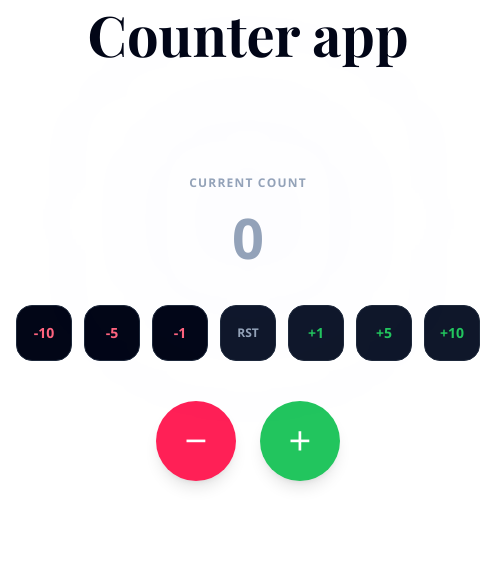
Counter component › decrements when the -1 button is clicked
Click the button named "Decrement by 1".
click(196, 440)  # box [156,400,236,480]
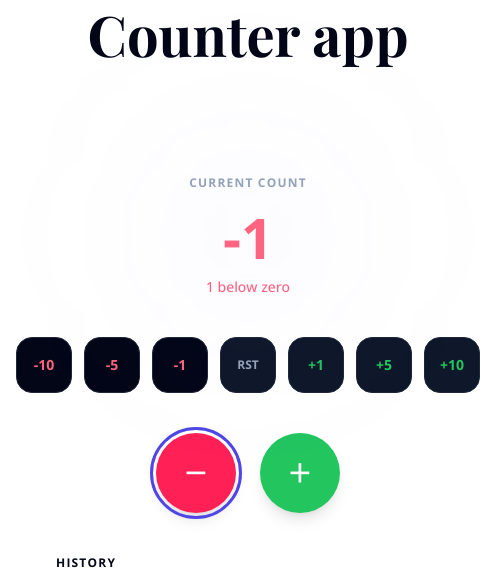
Expected: the text "1 below zero" is shown, [206,276,290,296]
